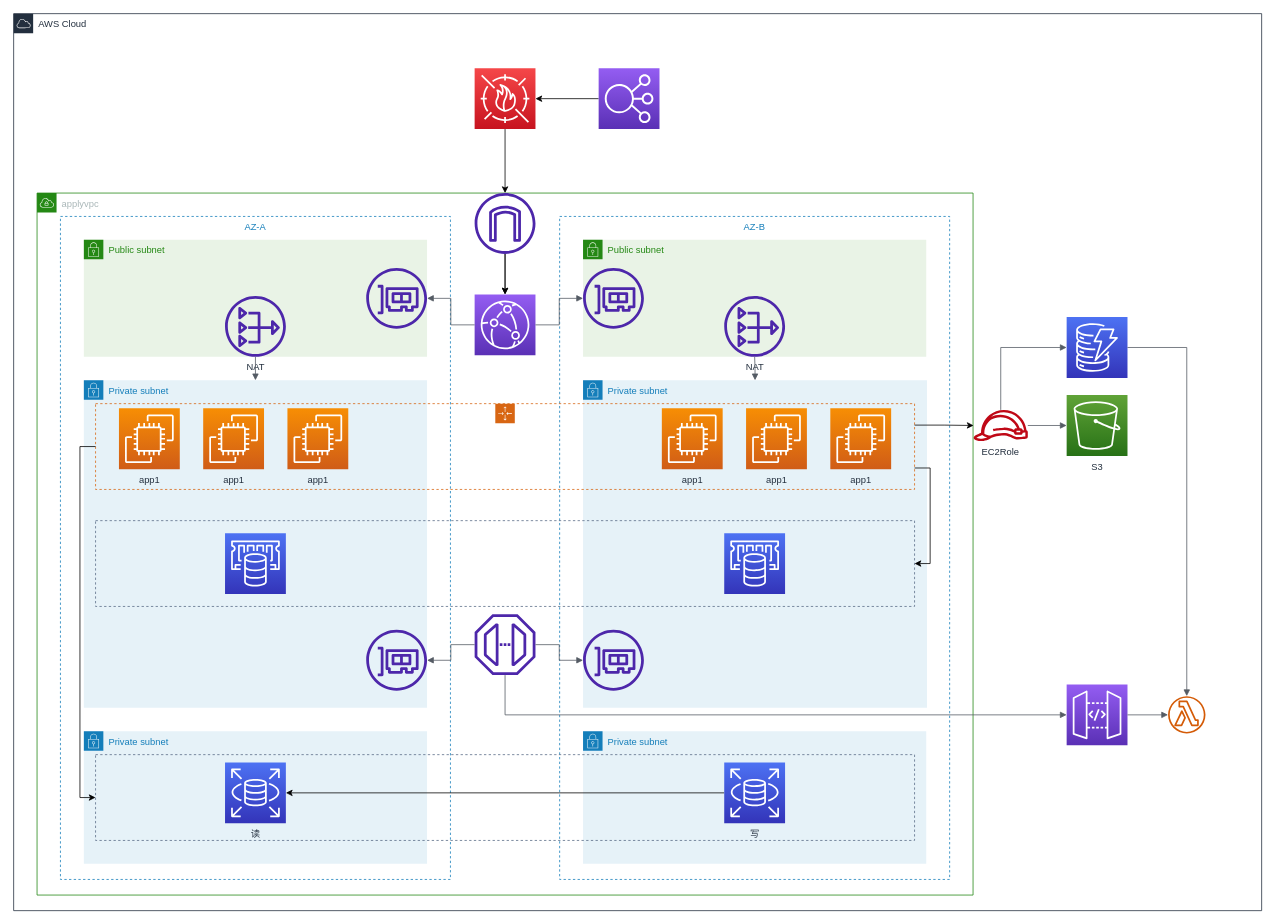
This 1275x924 diagram has some shape labels left out. Each missing label, with the box of its shape:
ALB: (474, 294, 535, 355)
API: (1066, 684, 1127, 745)
Auto Scaling group: (95, 403, 915, 489)
Cache group: (95, 520, 915, 606)
CDN: (598, 67, 659, 129)
Data group: (95, 754, 915, 840)
DyDB: (1066, 316, 1127, 378)
endpoint: (474, 614, 535, 675)
IGW: (474, 193, 535, 254)
lambda funcation: (1168, 696, 1205, 733)
WAF: (474, 67, 535, 129)
